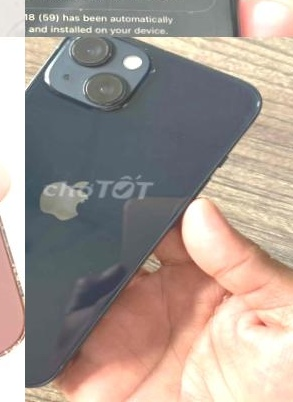scratch: (0, 165, 25, 317), (0, 326, 25, 375)
